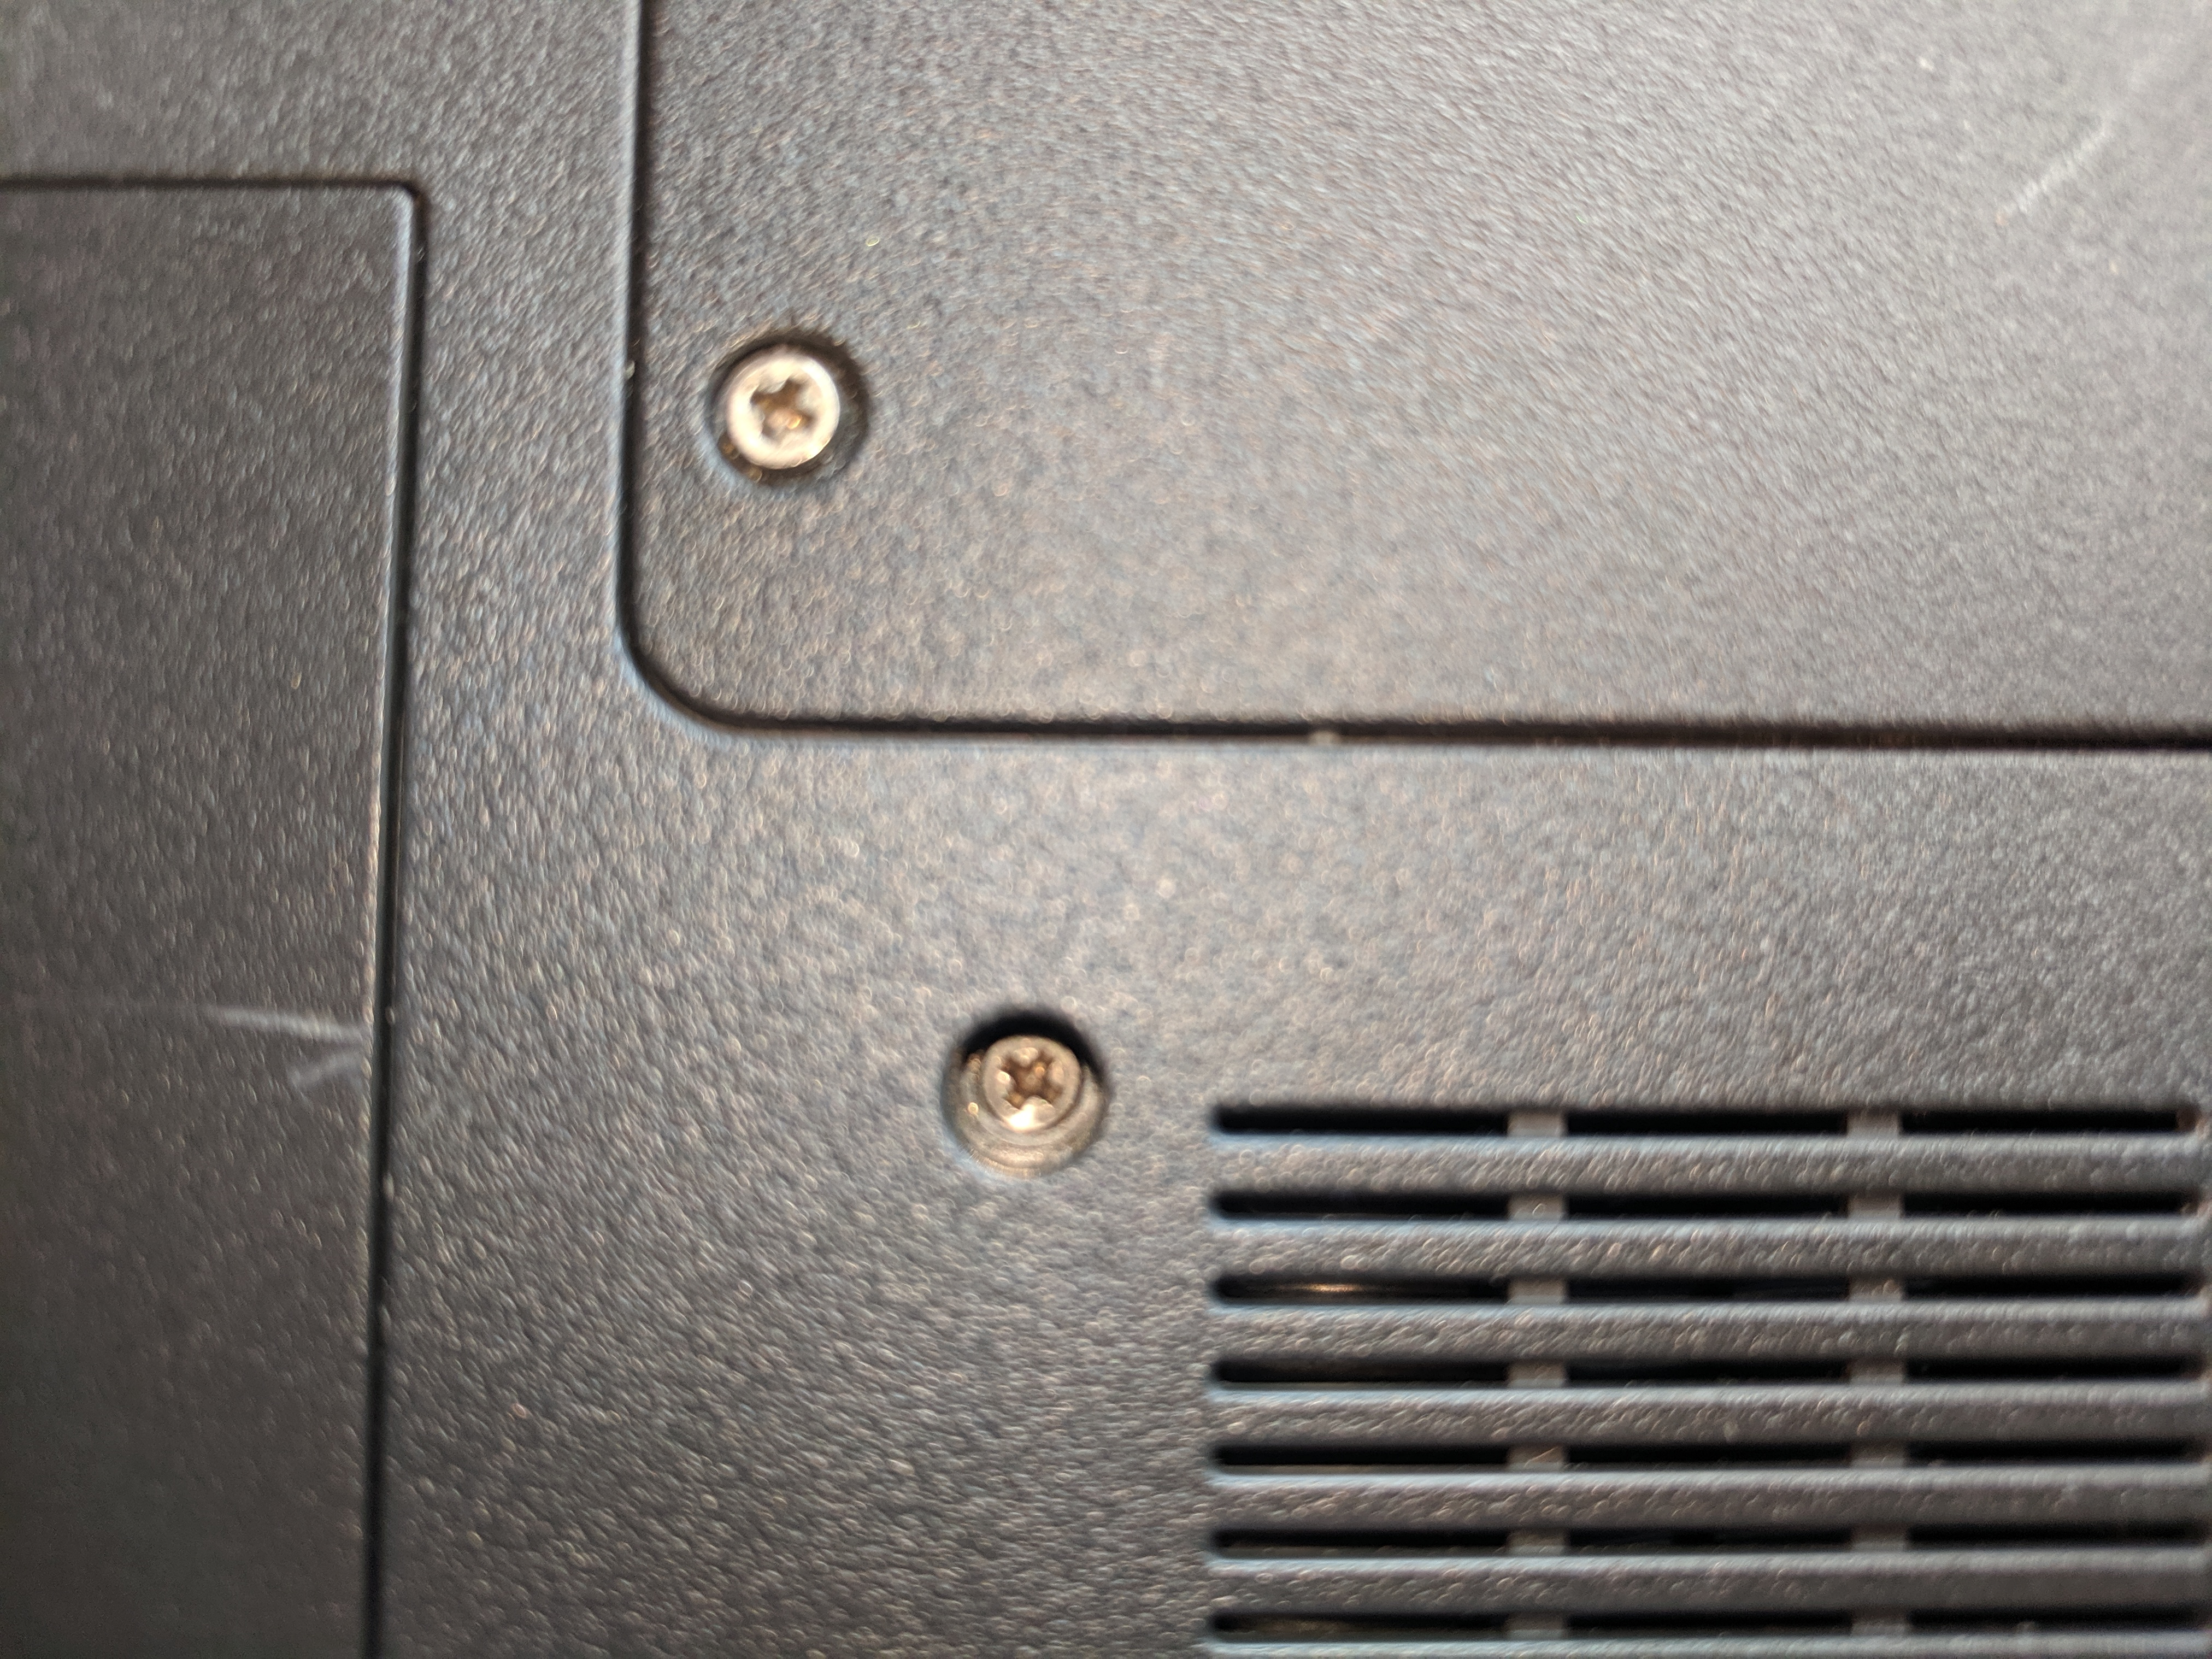cross_recessed_screw: (695, 322, 857, 488), (956, 1009, 1106, 1143)
